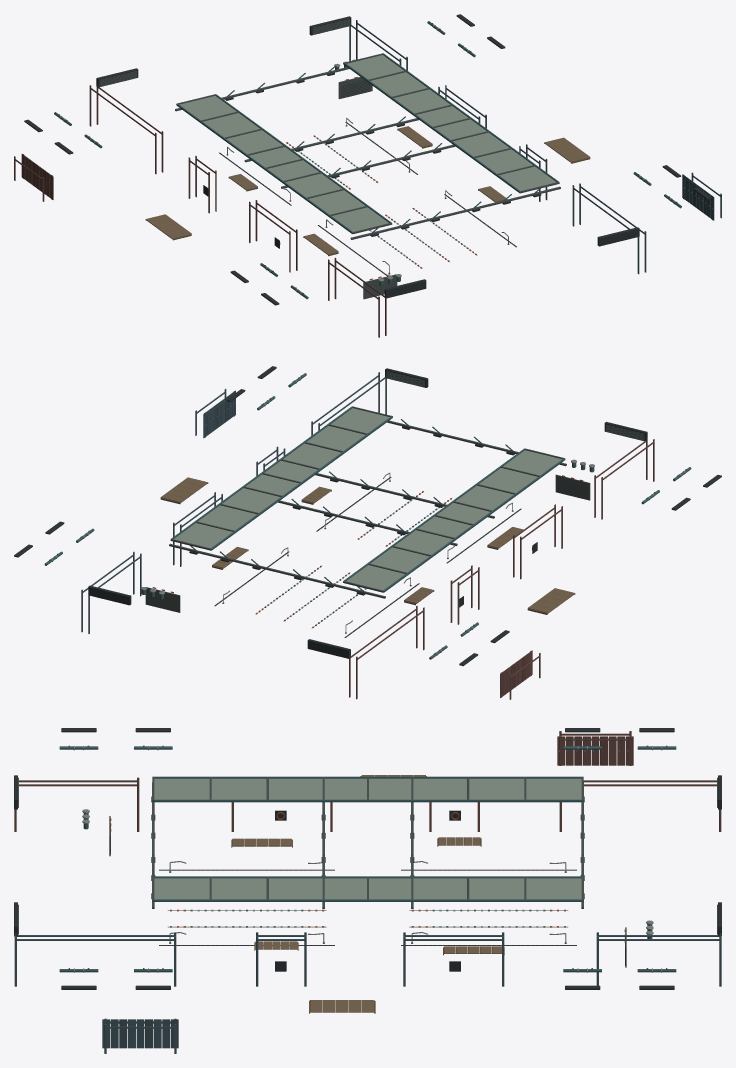
The model's file is detail.glb.
3 views of the same model, one above another, from view 1: azimuth 30°, elevation 25°; view 2: azimuth 150°, elevation 25°; view 3: azimuth 270°, elevation 25° (orthographic). The views are drawn at different scales.
Parts seen in each view (by area): view 1: skylight-0-0-0, skylight-1-0-0, metal-0-0-1, metal-0-1-1, metal-1-0-1, metal--1--1-0, metal-1-1-0, metal-0--1-1, wood-1-0-0, metal--1-0-0, metal-1--1-1, wood--1-0-0 (+2 smaller); view 2: skylight-0-0-0, skylight-1-0-0, metal-0-0-1, metal-0-1-1, metal-1-0-1, metal-0--1-1, metal--1--1-0, metal-1-1-0, wood-1-0-0, metal--1-0-0, metal-1--1-1, wood--1-0-0 (+4 smaller); view 3: skylight-0-0-0, skylight-1-0-0, metal-0-0-1, metal--1--1-0, metal-1-1-0, metal-1-0-1, wood-1-0-0, metal-1-0-0, metal-0-1-1, wood-0-0-0, metal--1-1-0, metal-1--1-1 (+8 smaller).
Boxes of the visible parts, box(x1,y1,x2,y2) form: skylight-0-0-0: box(179, 95, 388, 231); skylight-1-0-0: box(347, 55, 556, 190); metal-0-0-1: box(176, 94, 455, 233); metal-0-1-1: box(325, 186, 639, 299); metal-1-0-1: box(343, 53, 559, 193); metal--1--1-0: box(14, 84, 163, 201); metal-1-1-0: box(572, 172, 721, 274); metal-0--1-1: box(96, 16, 351, 111); wood-1-0-0: box(397, 126, 590, 202); metal--1-0-0: box(188, 156, 297, 272); metal-1--1-1: box(334, 14, 505, 98); wood--1-0-0: box(145, 214, 191, 240); skylight-0-0-0: box(346, 450, 561, 590); skylight-1-0-0: box(174, 408, 389, 548); metal-0-0-1: box(222, 448, 565, 633); metal-0-1-1: box(324, 368, 647, 558); metal-1-0-1: box(170, 406, 392, 550); metal-0--1-1: box(88, 543, 385, 658); metal--1--1-0: box(349, 605, 540, 699); metal-1-1-0: box(195, 372, 386, 438); wood-1-0-0: box(160, 477, 331, 569); metal--1-0-0: box(450, 504, 562, 624); metal-1--1-1: box(14, 521, 180, 612); wood--1-0-0: box(527, 588, 575, 614); skylight-0-0-0: box(154, 778, 581, 799); skylight-1-0-0: box(154, 878, 581, 899); metal-0-0-1: box(152, 776, 583, 943); metal--1--1-0: box(557, 731, 721, 831); metal-1-1-0: box(14, 932, 178, 1053); metal-1-0-1: box(152, 876, 583, 901); wood-1-0-0: box(254, 941, 504, 1013); metal-1-0-0: box(256, 932, 504, 986); metal-0-1-1: box(14, 775, 324, 943); wood-0-0-0: box(231, 837, 481, 847); metal--1-1-0: box(14, 777, 139, 831); metal-1--1-1: box(563, 920, 676, 989).
Bounding box in the file's own units: 48.53 × 5.64 × 49.48.
